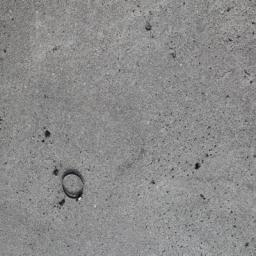FOD: (57, 170, 92, 204)
